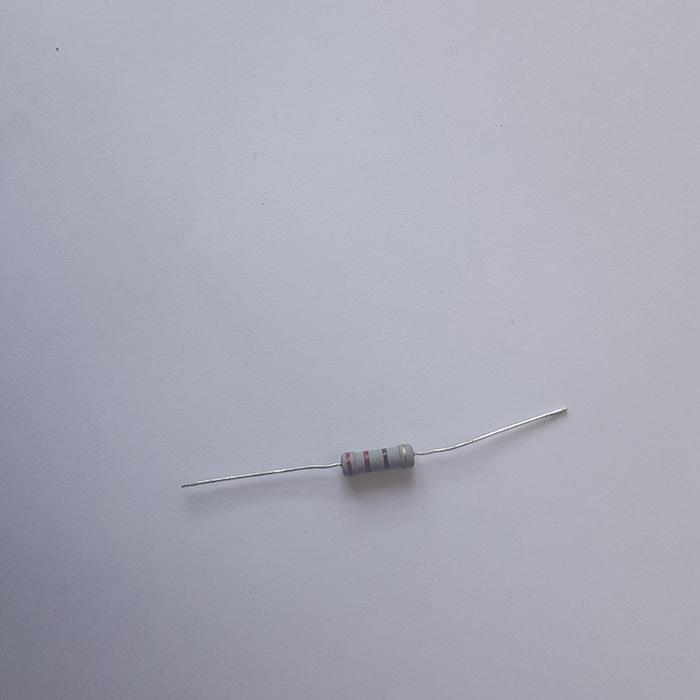resistor: (340, 443, 413, 476)
